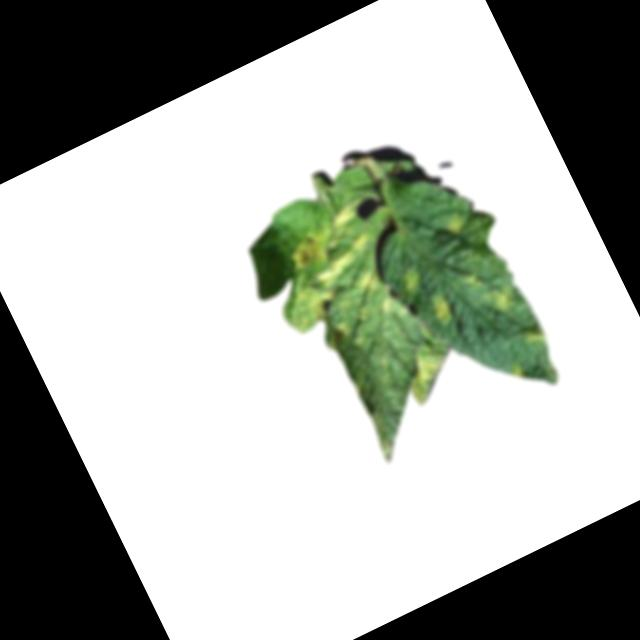Leaf_Mold: (283, 263, 358, 343), (396, 347, 459, 407), (283, 223, 338, 277), (424, 287, 462, 329), (396, 260, 428, 295), (486, 281, 517, 314), (329, 200, 362, 230), (442, 213, 471, 243), (356, 266, 383, 293)
